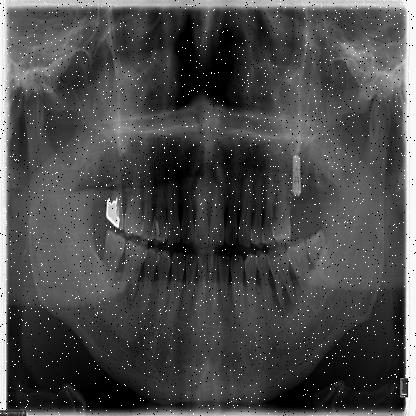ITI: (292, 151, 301, 203)
